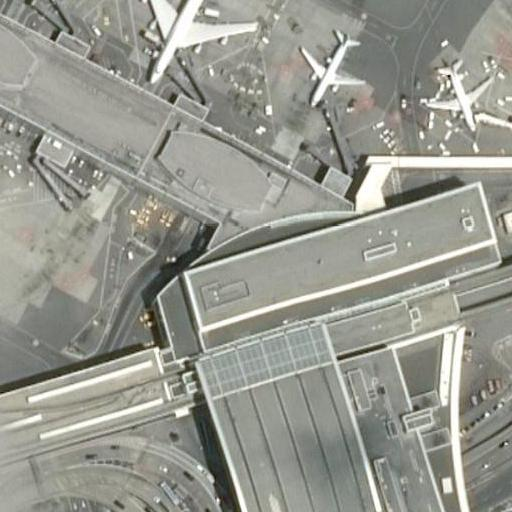Aircraft: (130, 0, 259, 86), (417, 45, 496, 134), (291, 25, 366, 104)
